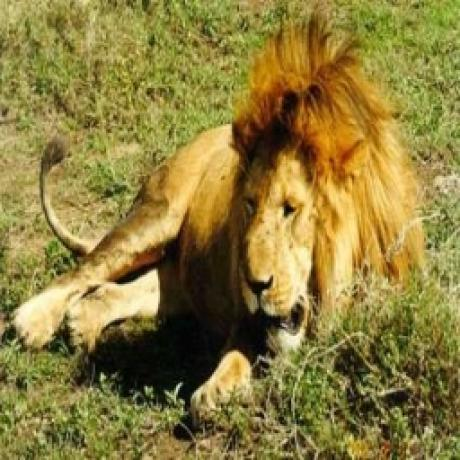Lion: (7, 13, 419, 422)
